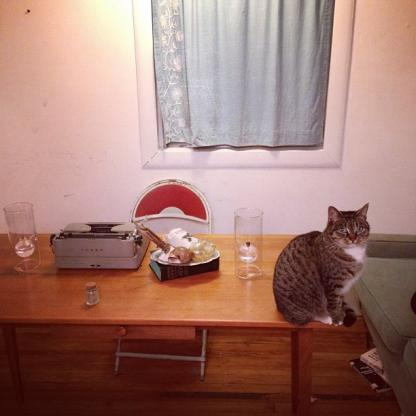Target: (270, 202, 378, 332)
